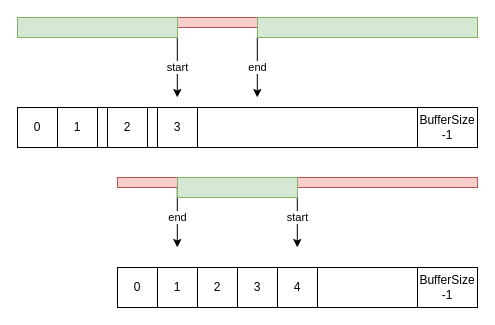
This 495x325 diagram has some shape labels left out. Each missing label, with the centre of its shape:
"free space 1" goes at point (237, 187).
"free space 1 (end_to_back)" goes at point (367, 27).
"free space 2 (front_to_start)" goes at point (97, 27).
